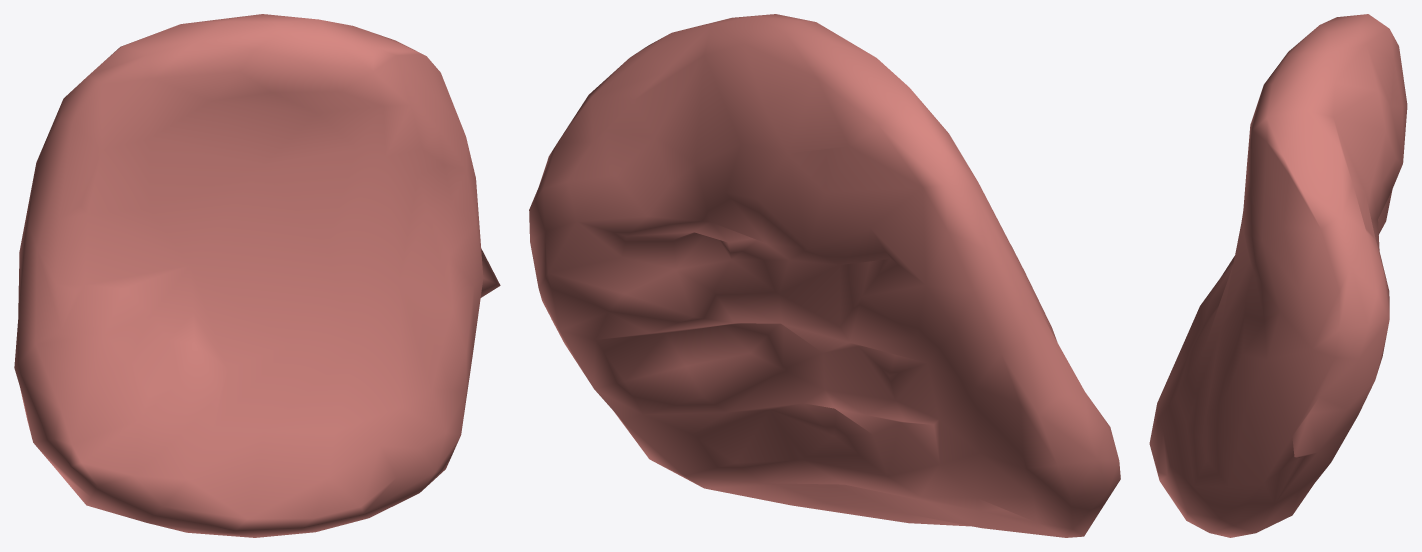
The model's file is fma48985_mm1283.glb.
3 views of the same model, side by side, from view 1: azimuth 30°, elevation 25°; view 2: azimuth 150°, elevation 25°; view 3: azimuth 270°, elevation 25° (orthographic). The views are drawn at different scales.
Visible parts, largest first — view 1: FMA48985_MM1283; view 2: FMA48985_MM1283; view 3: FMA48985_MM1283.
Boxes of the visible parts, bbox=[...] form: FMA48985_MM1283: bbox=[14, 14, 500, 537]; FMA48985_MM1283: bbox=[529, 14, 1120, 537]; FMA48985_MM1283: bbox=[1149, 14, 1407, 537].
Bounding box in the file's own units: 0.00838 × 0.0078 × 0.0041.
